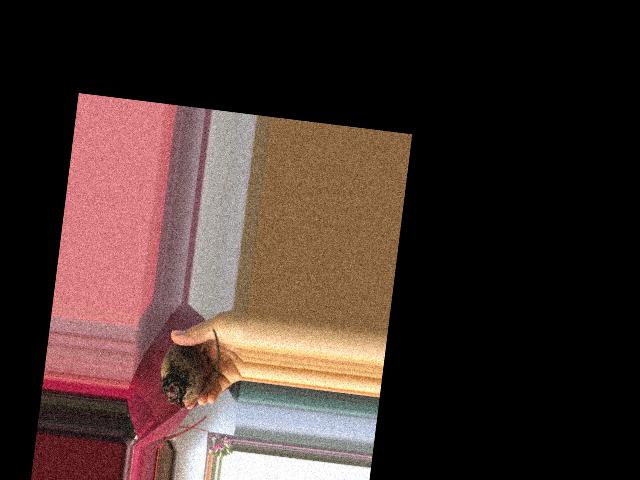beet: (156, 323, 223, 414)
